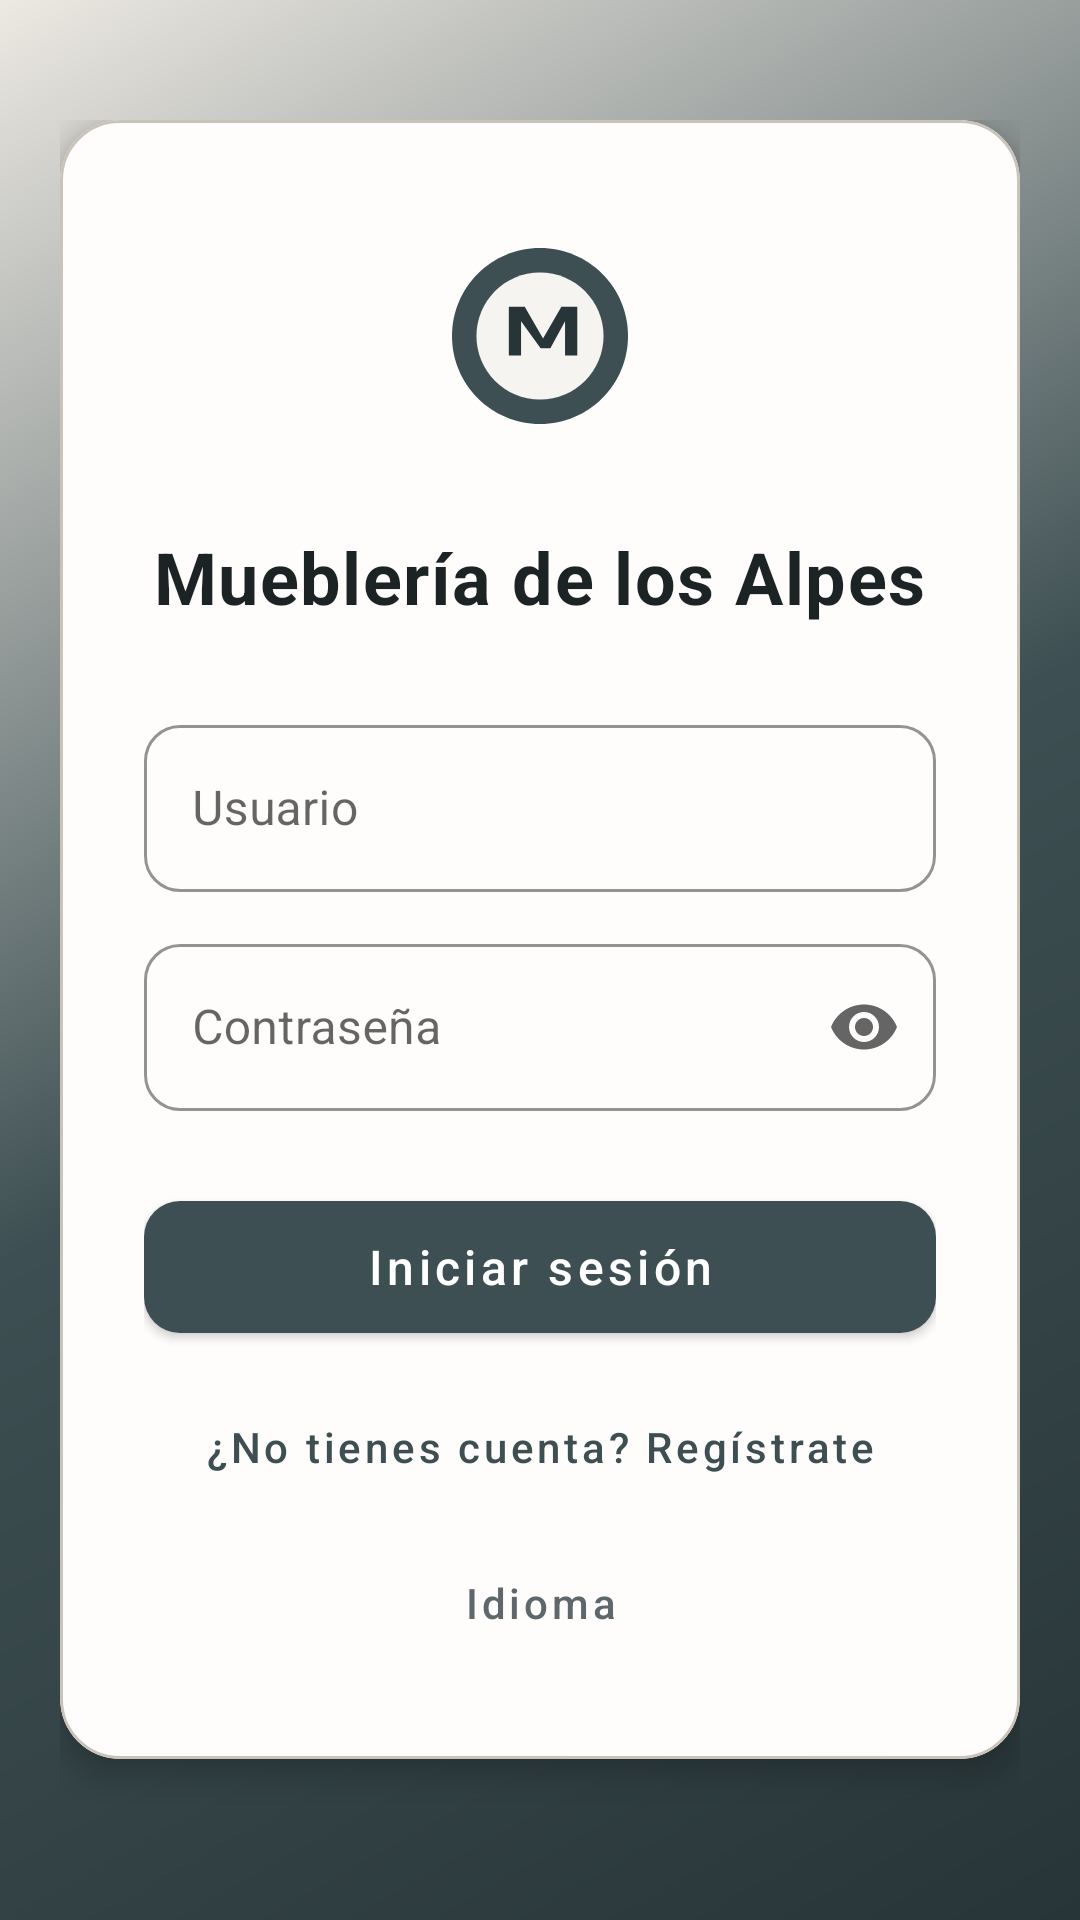

Icon click points for this 1080 × 1920 phone screenshot, format point (x, y):
brand monogram: point (540, 336)
